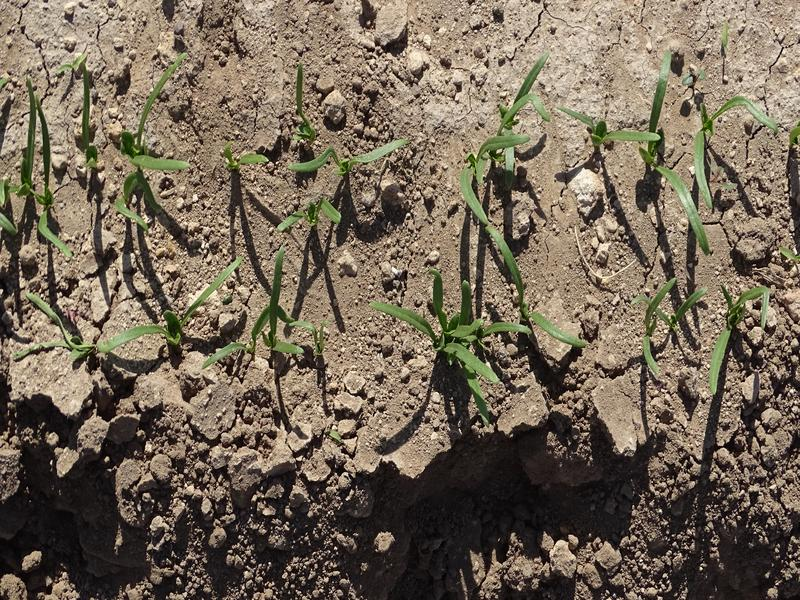Espinaca: (573, 76, 776, 247), (1, 70, 102, 365), (360, 300, 583, 420), (98, 253, 309, 370), (447, 61, 554, 283), (635, 280, 777, 389), (119, 67, 192, 220), (300, 128, 402, 177), (276, 192, 341, 231)
